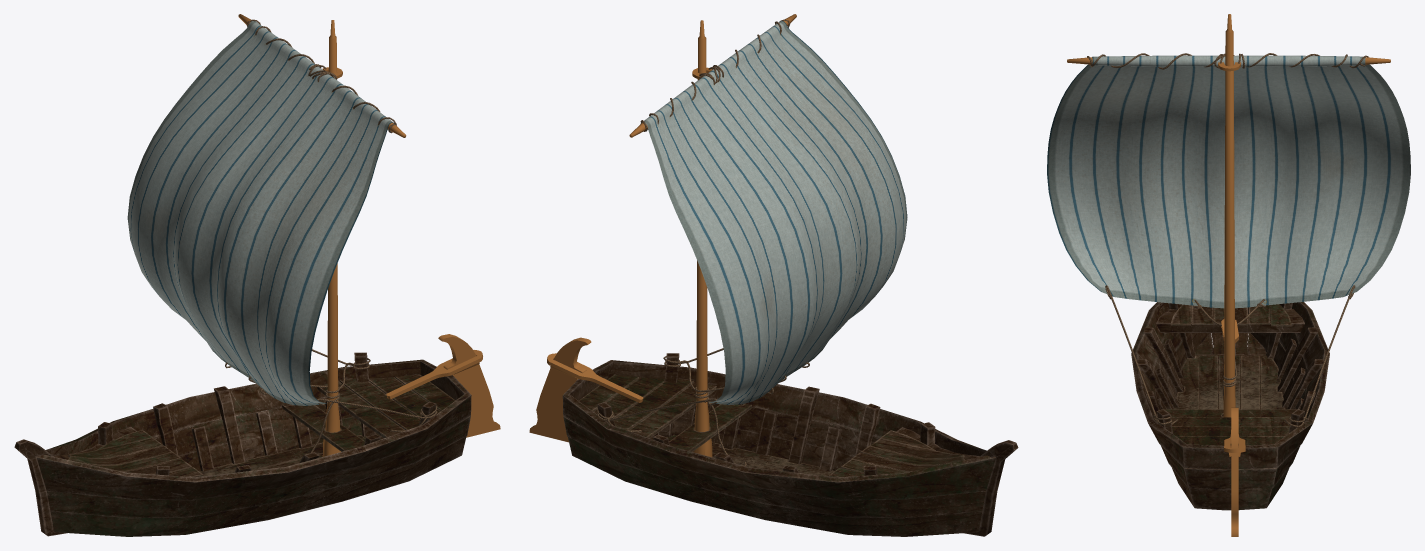
The model's file is BOAT2.fbx.
3 views of the same model, side by side, from view 1: azimuth 30°, elevation 25°; view 2: azimuth 150°, elevation 25°; view 3: azimuth 270°, elevation 25° (orthographic).
Visible parts, largest first — view 1: Sail, Mast.001; view 2: Sail, Mast.001; view 3: Sail, Mast.001, Ropes.003, Ropes.004.
Part boxes in pixels (box(x1,y1,x2,y2)): Sail: box(127, 14, 406, 452); Mast.001: box(14, 20, 500, 536); Sail: box(629, 14, 907, 466); Mast.001: box(529, 20, 1018, 536); Sail: box(1047, 53, 1410, 401); Mast.001: box(1131, 14, 1329, 536); Ropes.003: box(1105, 285, 1178, 424); Ropes.004: box(1284, 285, 1355, 427).
Size of the model in its own units: 747 by 672 by 496.
